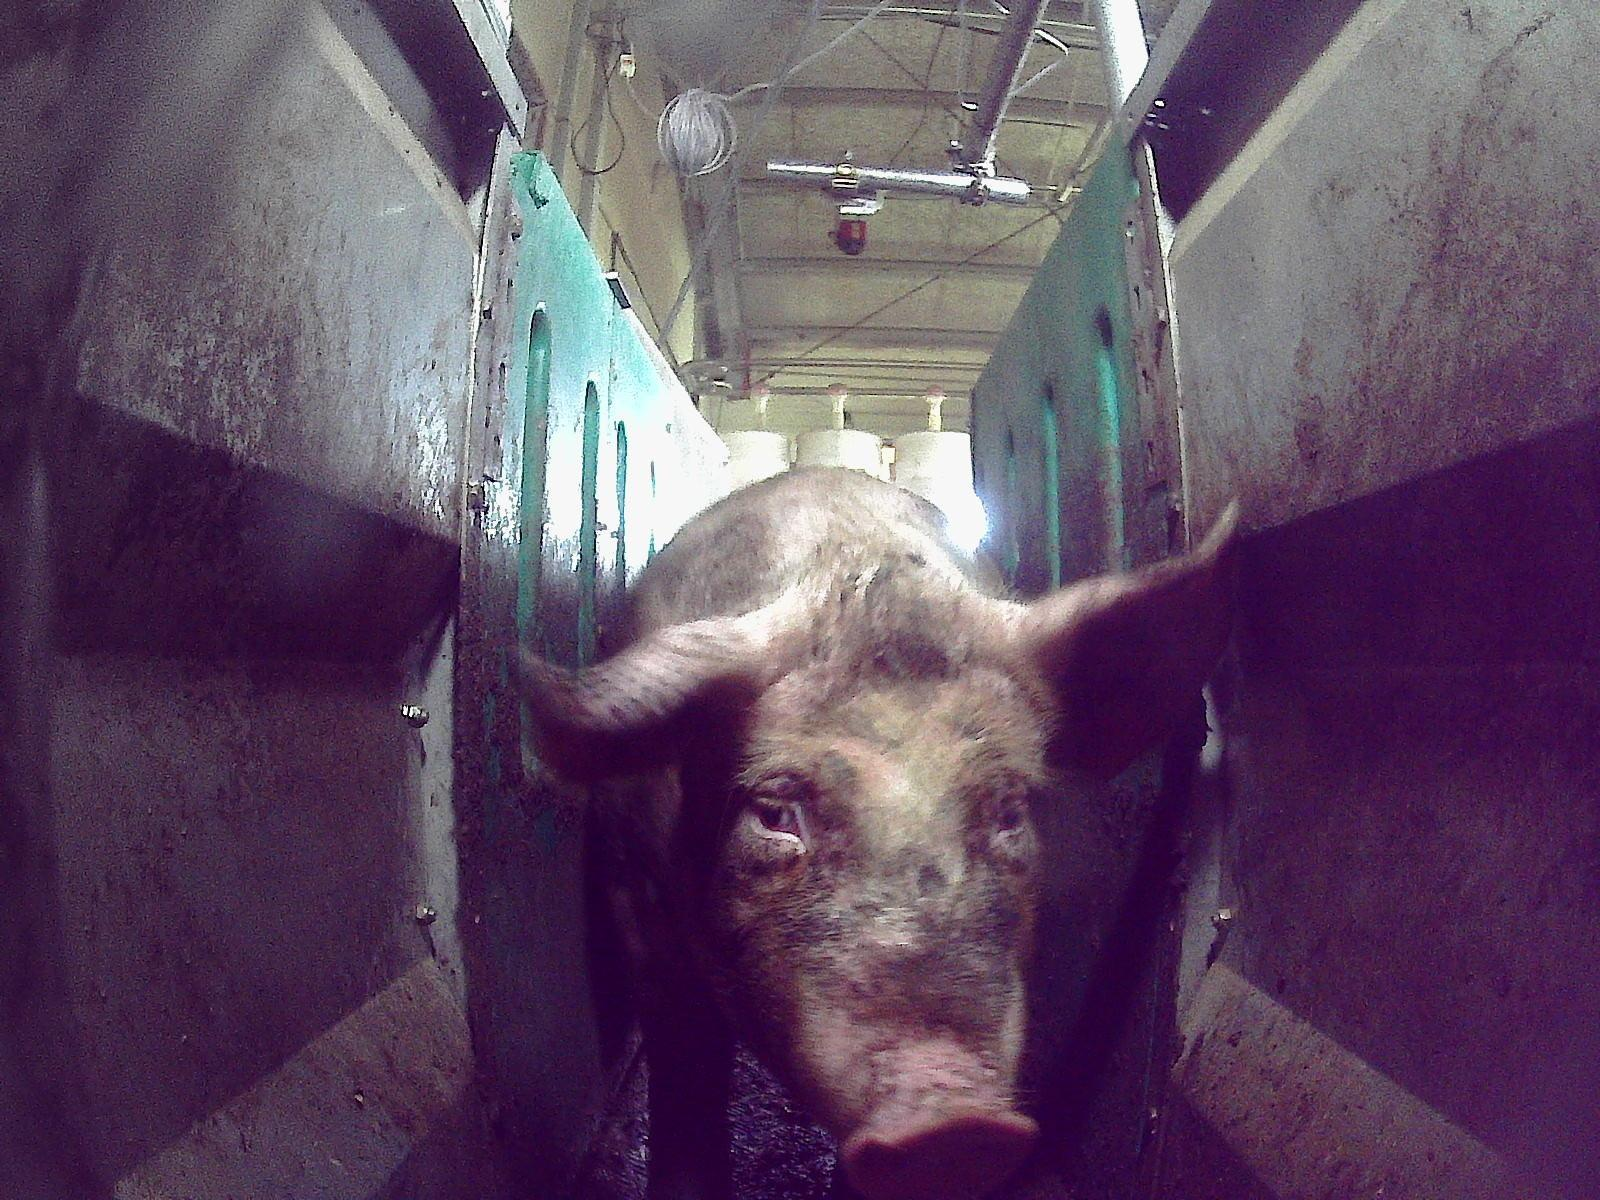Face: (695, 675, 1037, 1199)
